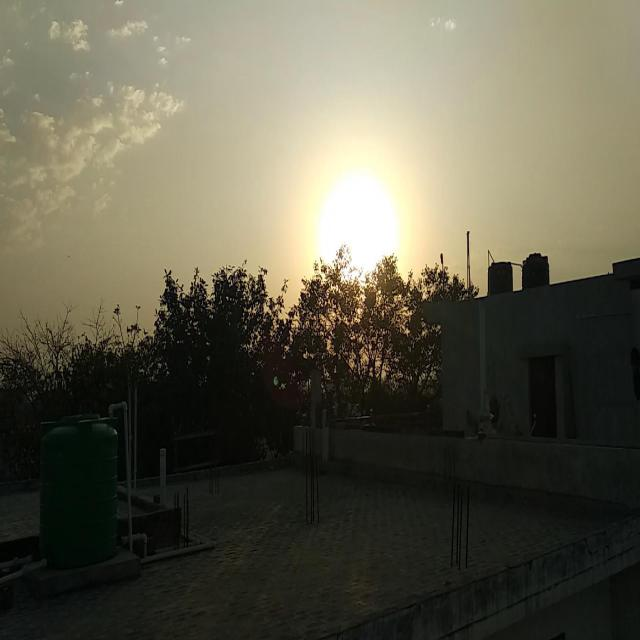other: (300, 154, 405, 326)
